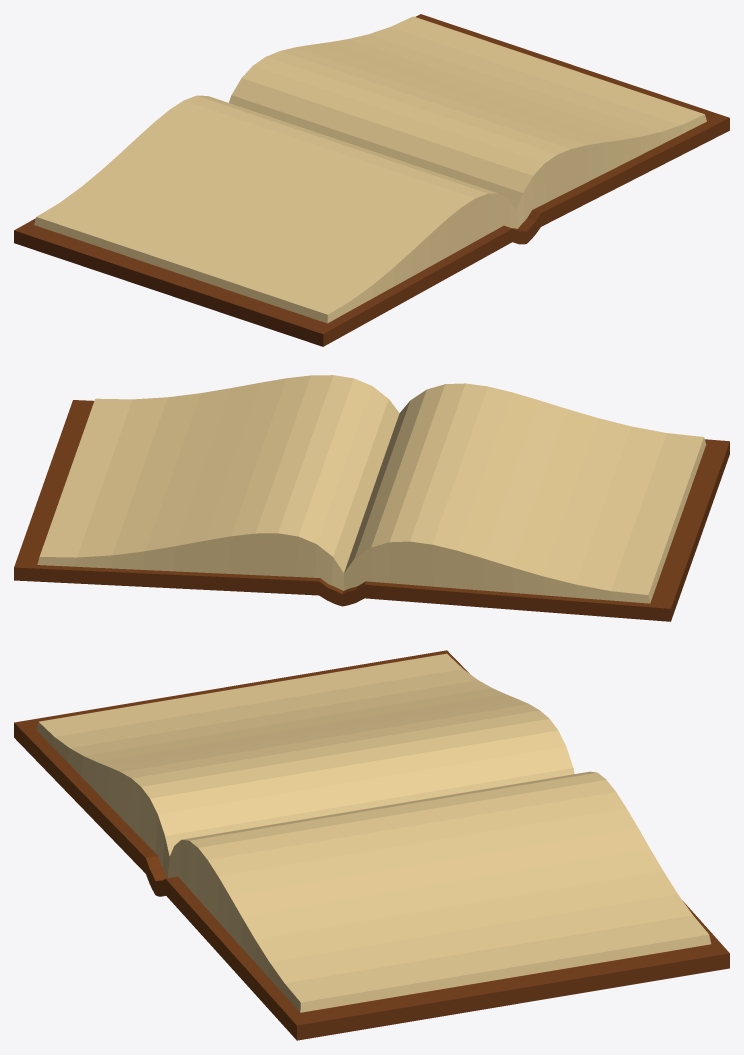
The model's file is Bed cabinet book.fbx.
The picture shows the model from 3 angles, top to bottom: view 1: azimuth 30°, elevation 25°; view 2: azimuth 150°, elevation 25°; view 3: azimuth 270°, elevation 25°; orthographic projection. The views are drawn at different scales.
Parts seen in each view (by area): view 1: Open Book Cover; view 2: Open Book Cover; view 3: Open Book Cover.
Boxes of the visible parts, x1,y1,x2,y2 form: Open Book Cover: (14,14,729,346); Open Book Cover: (14,375,729,621); Open Book Cover: (14,650,729,1040).
Bounding box in the file's own units: 77.67 × 7.3 × 62.63.
